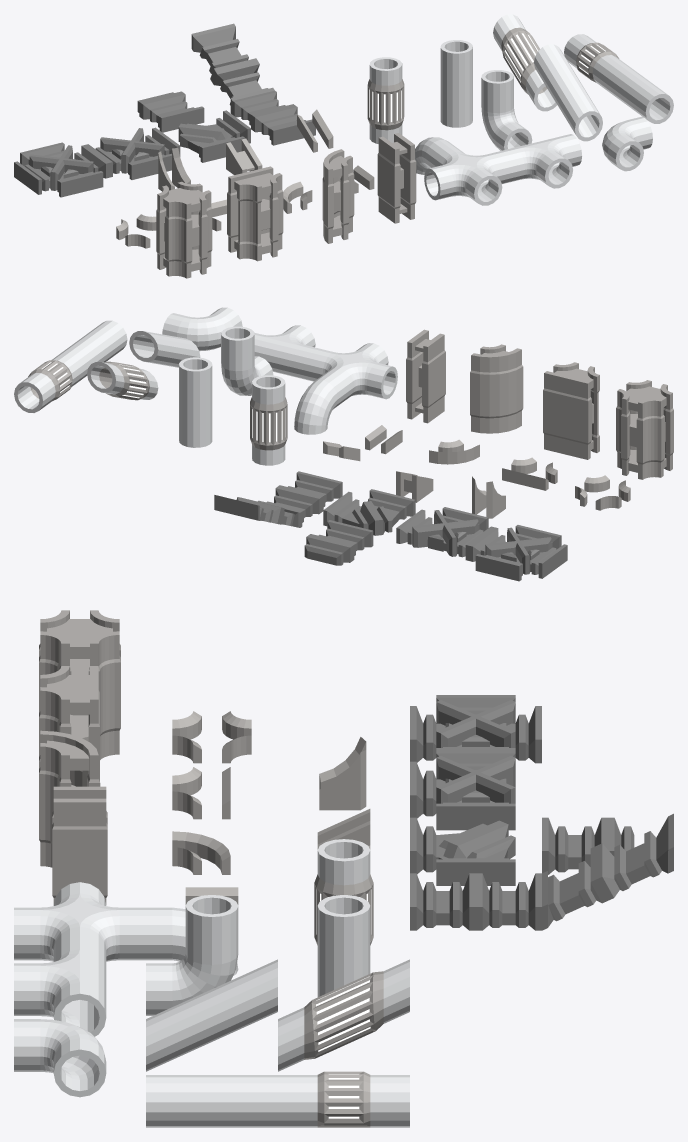
Rendered from pipeholders.glb.
3 renders of one model, top to bottom at view 1: azimuth 30°, elevation 25°; view 2: azimuth 150°, elevation 25°; view 3: azimuth 270°, elevation 25°, orthographic. The views are drawn at different scales.
Parts seen in each view (by area): view 1: SmallPlatePipeMountX, SmallPlatePipeMountT, SmallPlateRadiatorX, SmallPlatePipeX, SmallPlateRadiatorUp, SmallPlatePipeForwardUp, SmallPlatePipeMountForward, SmallPlatePipeT, SmallPlatePipeUpUpAccelerator, SmallPlatePipeUpUp, SmallPlateRadiatorT, SmallPlatePipeForwardUpAccelerator (+14 smaller); view 2: SmallPlatePipeMountX, SmallPlatePipeMountT, SmallPlatePipeMountAngle, SmallPlateRadiatorX, SmallPlatePipeX, SmallPlatePipeMountForward, SmallPlateRadiatorT, SmallPlatePipeUpUpAccelerator, SmallPlatePipeUpUp, SmallPlateRadiatorAngle, SmallPlatePipeForwardAccelerator, SmallPlatePipeUp (+16 smaller); view 3: SmallPlatePipeForwardUpAccelerator, SmallPlateRadiatorT, SmallPlatePipeX, SmallPlatePipeForwardAccelerator, SmallPlatePipeForwardUp, SmallPlateRadiatorX, SmallPlatePipeForward, SmallPlatePipeUp, SmallPlatePipeT, SmallPlatePipeMountX, SmallPlateRadiatorUp, SmallPlateRadiatorForward (+14 smaller).
Boxes of the visible parts, x1=… form: SmallPlatePipeMountX: x1=156, y1=181, x2=212, y2=278; SmallPlatePipeMountT: x1=227, y1=166, x2=283, y2=261; SmallPlateRadiatorX: x1=14, y1=142, x2=109, y2=197; SmallPlatePipeX: x1=424, y1=146, x2=511, y2=205; SmallPlateRadiatorUp: x1=191, y1=23, x2=274, y2=114; SmallPlatePipeForwardUp: x1=534, y1=44, x2=602, y2=141; SmallPlatePipeMountForward: x1=377, y1=133, x2=416, y2=223; SmallPlatePipeT: x1=500, y1=134, x2=581, y2=188; SmallPlatePipeUpUpAccelerator: x1=367, y1=57, x2=404, y2=143; SmallPlatePipeUpUp: x1=440, y1=40, x2=472, y2=127; SmallPlateRadiatorT: x1=85, y1=127, x2=180, y2=179; SmallPlatePipeForwardUpAccelerator: x1=493, y1=14, x2=557, y2=111; SmallPlatePipeMountX: x1=616, y1=380, x2=673, y2=479; SmallPlatePipeMountT: x1=543, y1=362, x2=599, y2=459; SmallPlatePipeMountAngle: x1=470, y1=344, x2=523, y2=433; SmallPlateRadiatorX: x1=469, y1=525, x2=567, y2=581; SmallPlatePipeX: x1=308, y1=343, x2=397, y2=402; SmallPlatePipeMountForward: x1=406, y1=329, x2=445, y2=423; SmallPlateRadiatorT: x1=396, y1=507, x2=493, y2=560; SmallPlatePipeUpUpAccelerator: x1=250, y1=375, x2=287, y2=465; SmallPlatePipeUpUp: x1=179, y1=357, x2=212, y2=447; SmallPlateRadiatorAngle: x1=323, y1=489, x2=415, y2=535; SmallPlatePipeForwardAccelerator: x1=14, y1=351, x2=85, y2=412; SmallPlatePipeUp: x1=221, y1=326, x2=273, y2=395; SmallPlatePipeForwardUpAccelerator: x1=278, y1=959, x2=409, y2=1071; SmallPlateRadiatorT: x1=410, y1=750, x2=515, y2=830; SmallPlatePipeX: x1=14, y1=882, x2=145, y2=961; SmallPlatePipeForwardAccelerator: x1=278, y1=1071, x2=409, y2=1127; SmallPlatePipeForwardUp: x1=146, y1=959, x2=277, y2=1071; SmallPlateRadiatorX: x1=410, y1=695, x2=541, y2=763; SmallPlatePipeForward: x1=146, y1=1075, x2=277, y2=1127; SmallPlatePipeUp: x1=146, y1=895, x2=238, y2=1015; SmallPlatePipeT: x1=14, y1=938, x2=106, y2=1036; SmallPlatePipeMountX: x1=39, y1=610, x2=120, y2=759; SmallPlateRadiatorUp: x1=542, y1=813, x2=673, y2=930; SmallPlateRadiatorForward: x1=410, y1=873, x2=541, y2=930.
Size of the model in its own units: 7725 by 1003 by 5000.
Materials: 1 (1 with a texture image).
